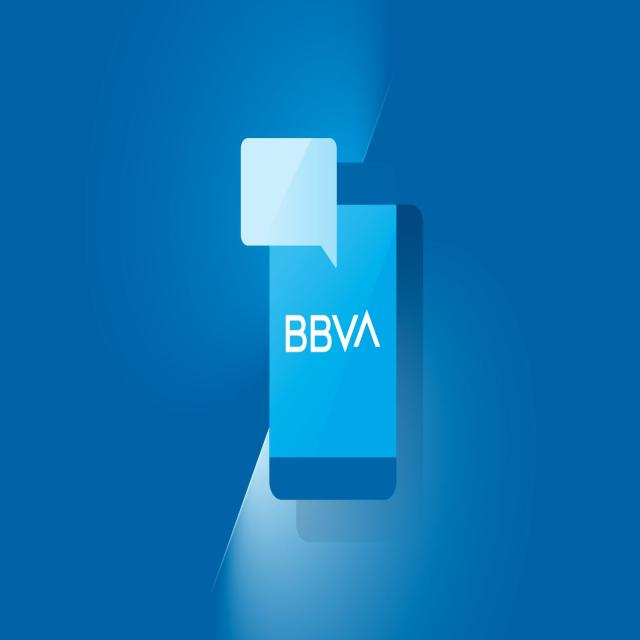BBVA: (286, 311, 382, 352)
